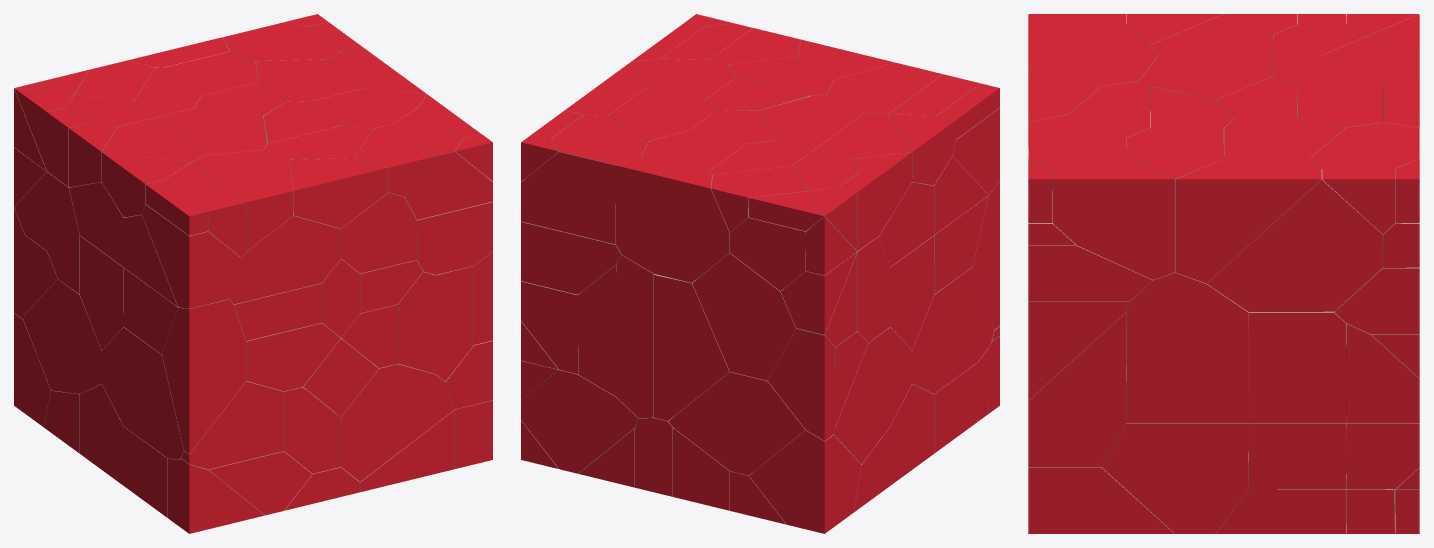
The model's file is explodeCubeWithText.glb.
3 renders of one model, left to right at view 1: azimuth 30°, elevation 25°; view 2: azimuth 150°, elevation 25°; view 3: azimuth 270°, elevation 25°, orthographic. The views are drawn at different scales.
Visible parts, largest first — view 1: Cube_cell.053, Cube_cell.002, Cube_cell.029, Cube_cell.098, Cube_cell.019, Cube_cell.076, Cube_cell.017, Cube_cell.057, Cube_cell.028, Cube_cell.077, Cube_cell.015, Cube_cell.078 (+57 smaller); view 2: Cube_cell.038, Cube_cell.013, Cube_cell.001, Cube_cell.024, Cube_cell.051, Cube_cell.042, Cube_cell.054, Cube_cell.029, Cube_cell.019, Cube_cell.010, Cube_cell.046, Cube_cell.066 (+53 smaller); view 3: Cube_cell.096, Cube_cell.081, Cube_cell.082, Cube_cell.026, Cube_cell.016, Cube_cell.073, Cube_cell.052, Cube_cell.056, Cube_cell.014, Cube_cell.008, Cube_cell.078, Cube_cell.091 (+35 smaller).
Boxes of the visible parts, left/top/right/bottom form: Cube_cell.053: left=162, top=299, right=245, bottom=454; Cube_cell.002: left=337, top=364, right=454, bottom=481; Cube_cell.029: left=101, top=327, right=183, bottom=459; Cube_cell.098: left=229, top=214, right=340, bottom=304; Cube_cell.019: left=23, top=279, right=101, bottom=393; Cube_cell.076: left=142, top=204, right=241, bottom=308; Cube_cell.017: left=181, top=381, right=283, bottom=469; Cube_cell.057: left=289, top=158, right=388, bottom=228; Cube_cell.028: left=192, top=150, right=293, bottom=251; Cube_cell.077: left=341, top=192, right=416, bottom=273; Cube_cell.015: left=246, top=323, right=340, bottom=391; Cube_cell.078: left=417, top=201, right=492, bottom=274; Cube_cell.038: left=616, top=156, right=729, bottom=282; Cube_cell.013: left=668, top=372, right=805, bottom=475; Cube_cell.001: left=692, top=253, right=796, bottom=380; Cube_cell.024: left=749, top=430, right=861, bottom=533; Cube_cell.051: left=521, top=370, right=638, bottom=473; Cube_cell.042: left=654, top=274, right=729, bottom=420; Cube_cell.054: left=521, top=152, right=615, bottom=244; Cube_cell.029: left=912, top=267, right=994, bottom=393; Cube_cell.019: left=833, top=327, right=912, bottom=464; Cube_cell.010: left=616, top=255, right=654, bottom=417; Cube_cell.046: left=768, top=328, right=835, bottom=440; Cube_cell.066: left=521, top=221, right=621, bottom=294; Cube_cell.096: left=1126, top=272, right=1248, bottom=422; Cube_cell.081: left=1206, top=169, right=1382, bottom=311; Cube_cell.082: left=1102, top=382, right=1248, bottom=533; Cube_cell.026: left=1175, top=158, right=1321, bottom=283; Cube_cell.016: left=1053, top=169, right=1174, bottom=279; Cube_cell.073: left=1248, top=311, right=1345, bottom=422; Cube_cell.052: left=1028, top=312, right=1125, bottom=467; Cube_cell.056: left=1028, top=467, right=1174, bottom=533; Cube_cell.014: left=1248, top=423, right=1345, bottom=489; Cube_cell.008: left=1346, top=324, right=1419, bottom=422; Cube_cell.078: left=1028, top=245, right=1152, bottom=301; Cube_cell.091: left=1028, top=301, right=1129, bottom=400.
Size of the model in its own units: 2 by 2 by 2.
